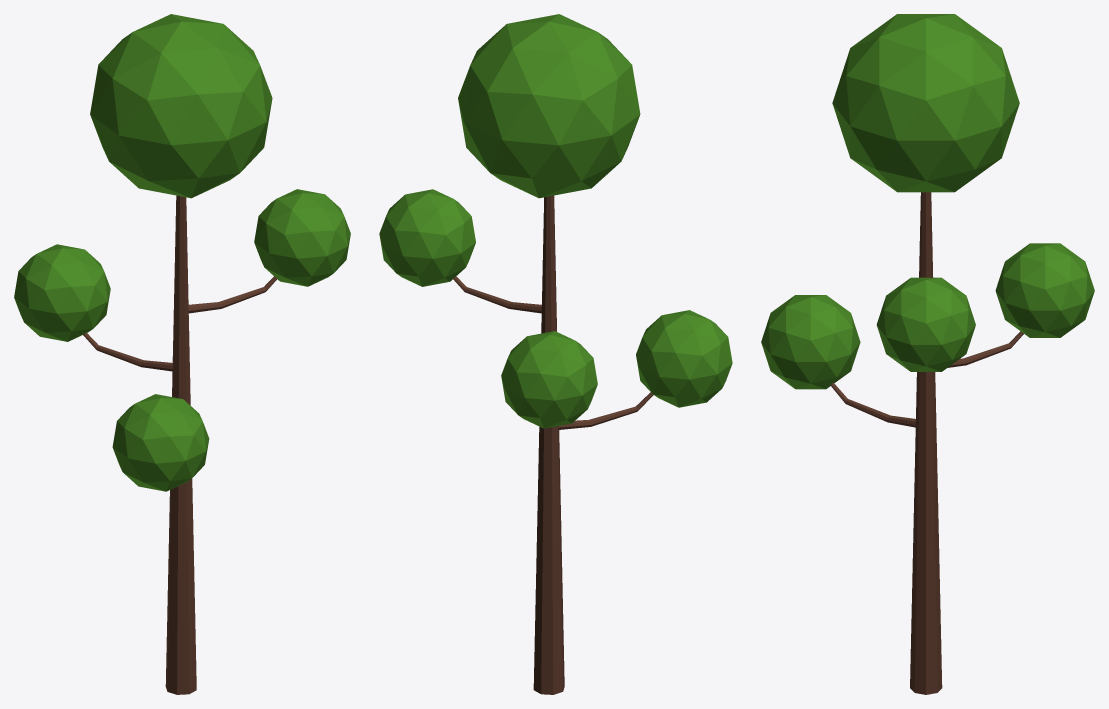
Rendered from Tree.fbx.
3 renders of one model, left to right at view 1: azimuth 30°, elevation 25°; view 2: azimuth 150°, elevation 25°; view 3: azimuth 270°, elevation 25°, orthographic.
Visible parts, largest first — view 1: Tree; view 2: Tree; view 3: Tree.
Part boxes in pixels (box(x1,y1,x2,y2)): Tree: box(14, 14, 350, 694); Tree: box(379, 14, 732, 694); Tree: box(761, 14, 1094, 694).
Bounding box in the file's own units: 1009 × 2290 × 1034.
